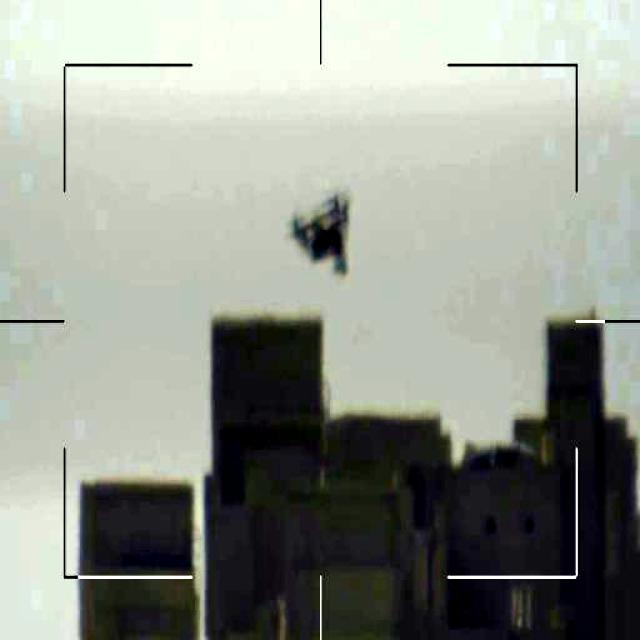bird: (279, 186, 346, 275)
